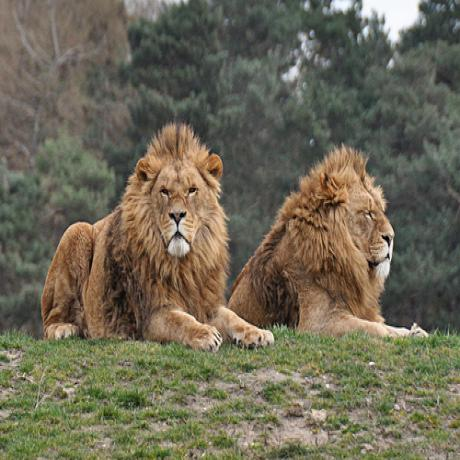Lion: (42, 125, 270, 346), (232, 142, 428, 344)
